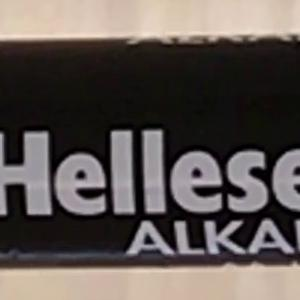ALK: (116, 211, 240, 266)
